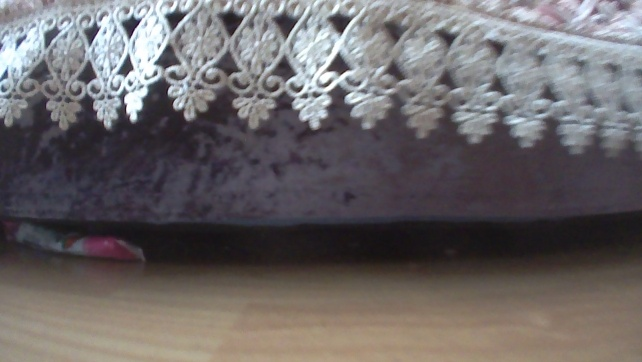sofa1: (1, 0, 641, 236)
